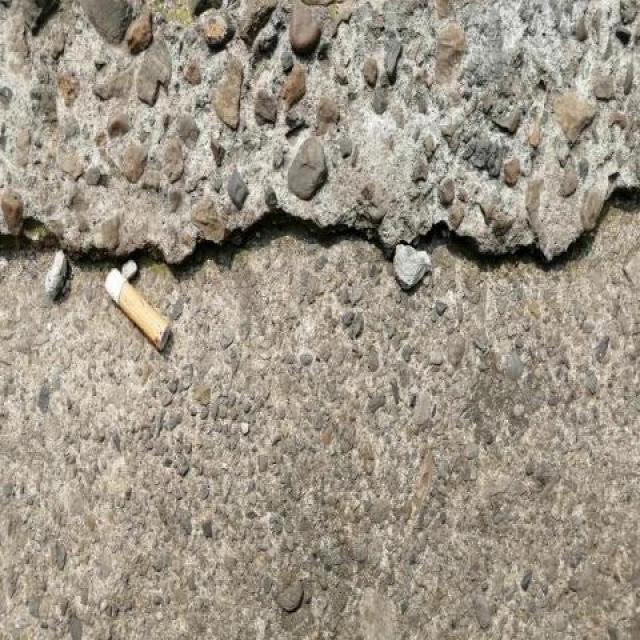non-organic waste: (99, 259, 173, 354)
